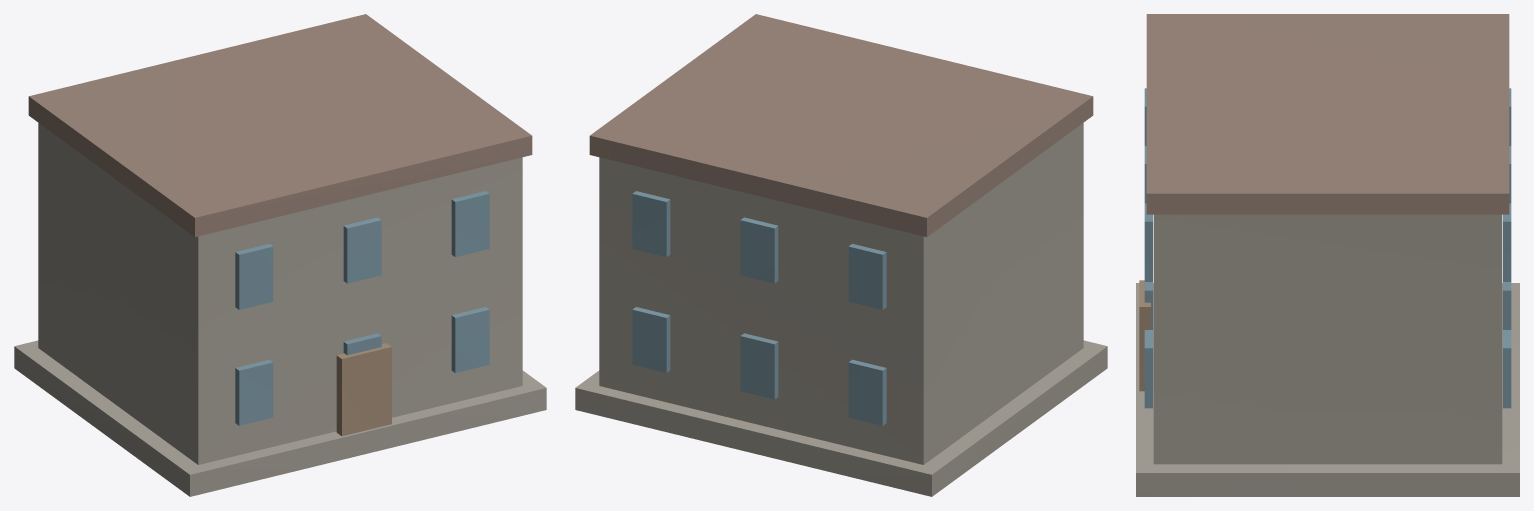
The model's file is warehouse-05.glb.
3 renders of one model, left to right at view 1: azimuth 30°, elevation 25°; view 2: azimuth 150°, elevation 25°; view 3: azimuth 270°, elevation 25°, orthographic. The views are drawn at different scales.
Parts seen in each view (by area): view 1: world; view 2: world; view 3: world.
Boxes of the visible parts, x1,y1,x2,y2 form: world: [14, 14, 546, 496]; world: [575, 14, 1107, 496]; world: [1136, 14, 1519, 496].
Bounding box in the file's own units: 1.35 × 0.99 × 1.15.
